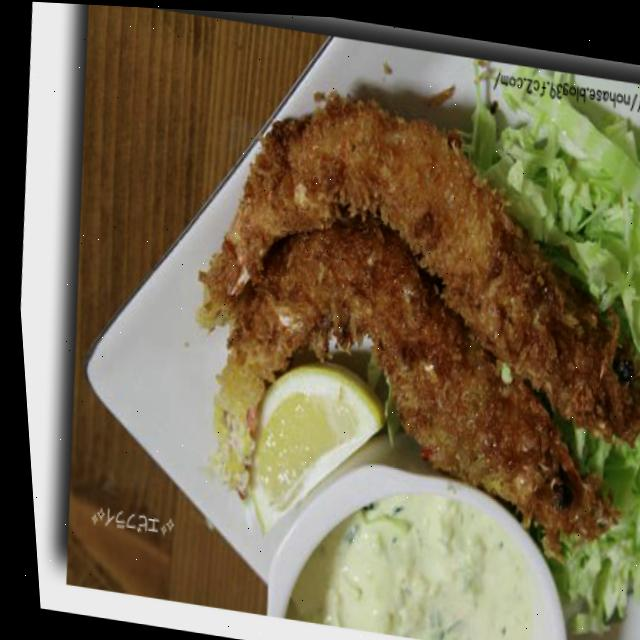炸货点心: (146, 59, 640, 613)
熟制海鲜: (146, 59, 640, 613)
